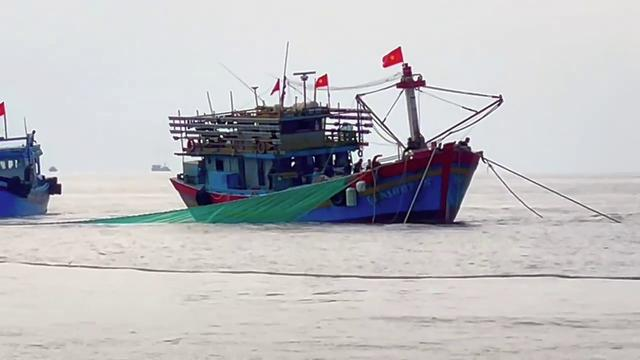Ship: (170, 73, 486, 237), (1, 122, 65, 224)
